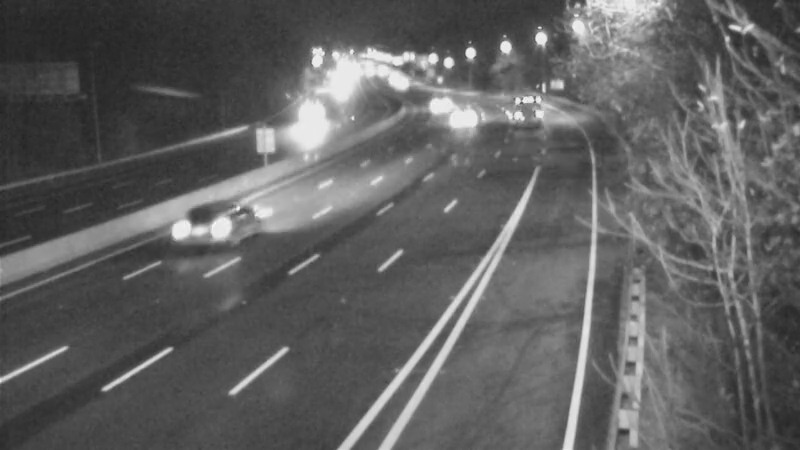vehicle: (180, 182, 260, 262), (366, 53, 416, 103), (377, 60, 427, 110), (491, 78, 541, 128), (410, 79, 460, 129), (442, 91, 492, 141), (290, 93, 340, 143), (314, 62, 364, 112)
